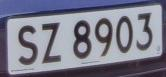0: (113, 9, 136, 59)
3: (134, 7, 155, 57)
8: (71, 14, 94, 65)
9: (92, 12, 116, 62)
S: (15, 20, 41, 70)
Z: (38, 18, 64, 68)
